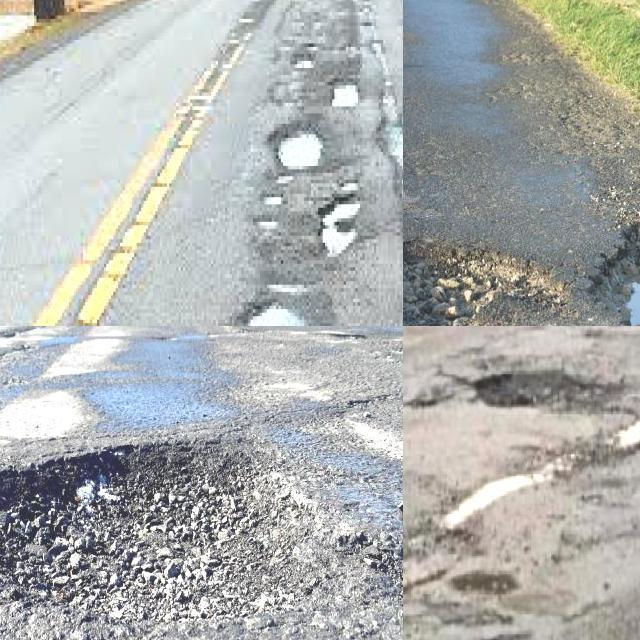Pothole: (0, 443, 403, 623), (403, 236, 579, 326), (473, 370, 628, 416), (276, 110, 332, 173), (318, 180, 362, 257), (334, 75, 365, 99)
